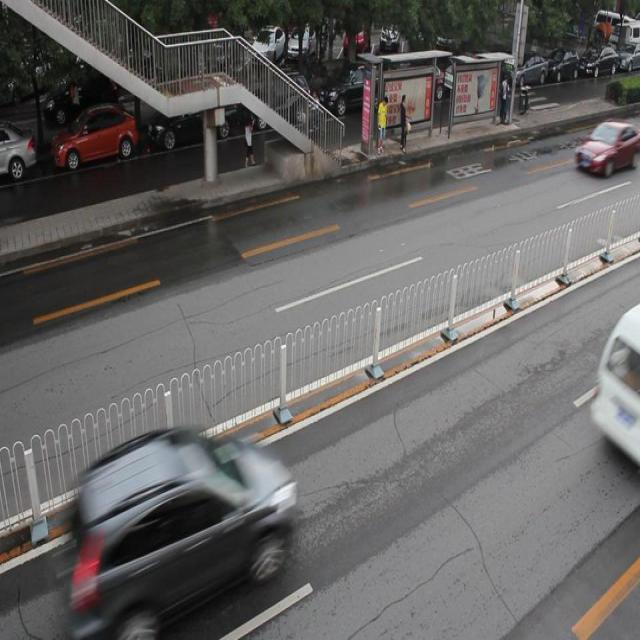car: (72, 424, 295, 640), (147, 94, 240, 148), (53, 109, 138, 168), (317, 65, 390, 120), (245, 74, 313, 133), (573, 119, 640, 175), (1, 125, 36, 181)
truck: (588, 300, 640, 461)
